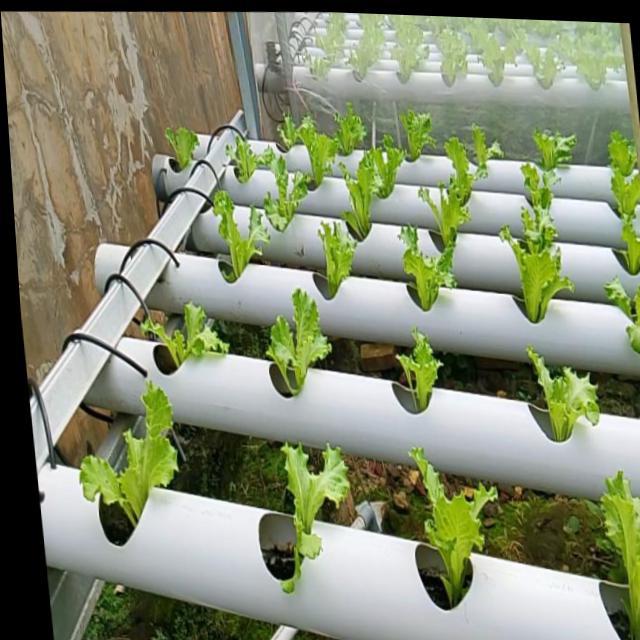Baby: (76, 377, 175, 523), (408, 444, 495, 604), (278, 440, 347, 589), (599, 470, 640, 640), (264, 284, 329, 391), (525, 344, 597, 440), (416, 157, 484, 250), (133, 295, 226, 361), (210, 186, 268, 279), (337, 147, 393, 240), (507, 239, 566, 322), (394, 102, 451, 186), (275, 113, 336, 186), (261, 148, 309, 231), (396, 325, 440, 408), (399, 225, 442, 309), (517, 182, 558, 270), (315, 219, 355, 296), (602, 276, 640, 353), (607, 139, 640, 221), (223, 128, 271, 181), (461, 124, 503, 180), (331, 101, 365, 155), (531, 129, 574, 171), (162, 122, 197, 163)
